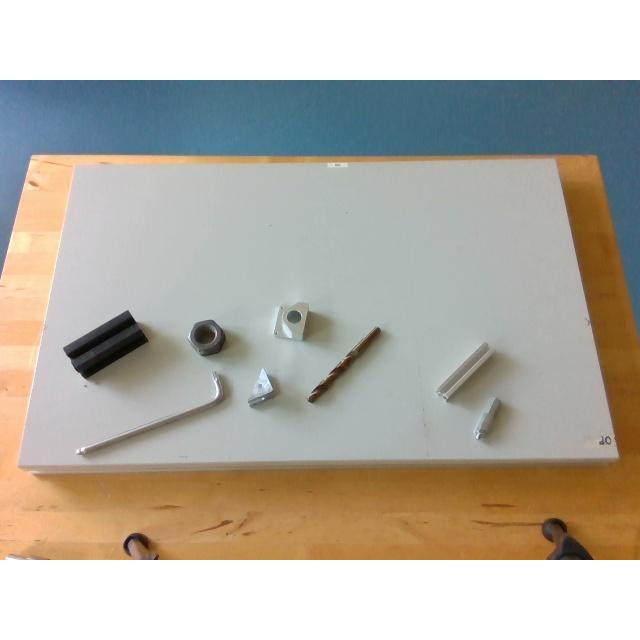AllenKey: (76, 370, 224, 454)
Drill: (306, 327, 382, 405)
F20_20_G: (436, 342, 496, 402)
M30: (189, 318, 225, 354)
S40_40_B: (64, 310, 148, 376)
